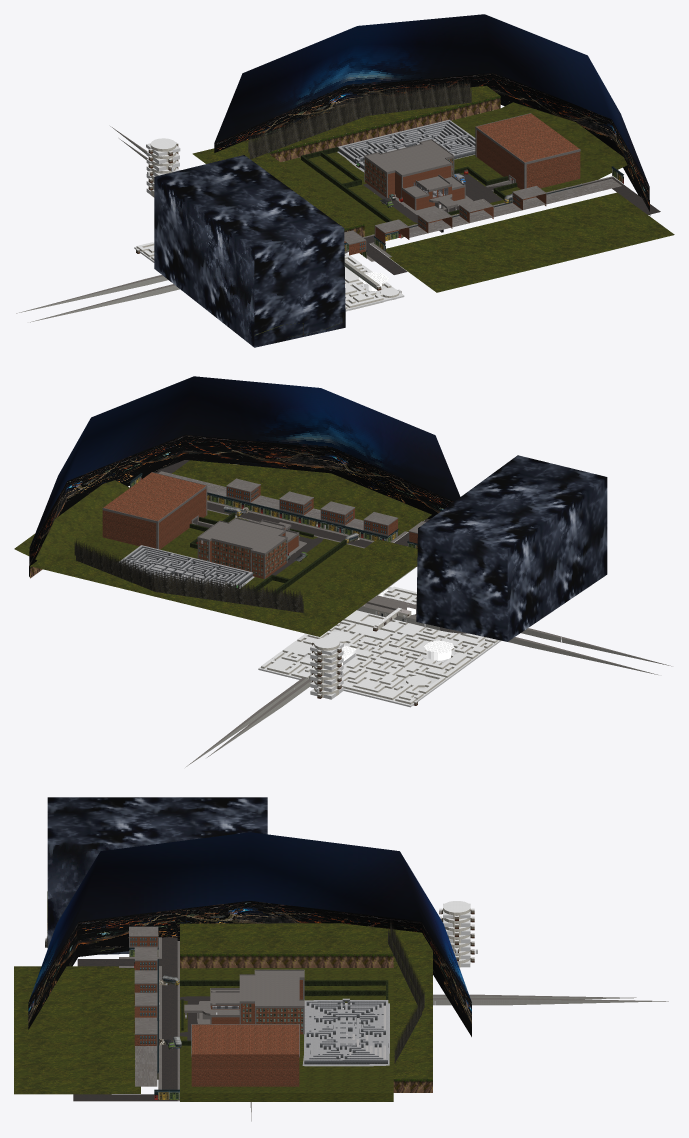
Rendered from light_test_compressed.glb.
3 views of the same model, one above another, from view 1: azimuth 30°, elevation 25°; view 2: azimuth 150°, elevation 25°; view 3: azimuth 270°, elevation 25° (orthographic). The views are drawn at different scales.
Parts seen in each view (by area): view 1: Exterior_ground, skybox.001, skybox, Garage_Exterior, Exterior_ground.005, hotel_exterior, hedgemaze, building facade.009, Backrooms, Exterior_ground.001, building facade.003, MainDoorway.001 (+2 smaller); view 2: skybox.001, skybox, Exterior_ground, Backrooms, Garage_Exterior, Exterior_ground.005, hotel_exterior, hedgemaze, trigger_train_corner.013, building facade.009, hotel_exterior.002, building facade.003 (+8 smaller); view 3: Exterior_ground, skybox.001, skybox, Garage_Exterior, hedgemaze, hotel_exterior, building facade.009, Exterior_ground.005, Exterior_ground.001, subway_exit_stairs.004, building facade.003, MainDoorway.001 (+5 smaller).
Part boxes in pixels (x1,y1,x2,y2): Exterior_ground: (192, 85, 674, 292); skybox.001: (214, 14, 650, 215); skybox: (154, 155, 345, 347); Garage_Exterior: (476, 113, 580, 189); Exterior_ground.005: (248, 80, 471, 159); hotel_exterior: (365, 140, 464, 210); hedgemaze: (338, 119, 475, 169); building facade.009: (409, 178, 621, 237); Backrooms: (136, 242, 399, 311); Exterior_ground.001: (301, 147, 392, 222); building facade.003: (374, 193, 546, 251); MainDoorway.001: (364, 113, 580, 188); skybox.001: (29, 376, 460, 576); skybox: (416, 455, 607, 641); Exterior_ground: (14, 460, 431, 636); Backrooms: (261, 586, 498, 704); Garage_Exterior: (102, 472, 206, 549); Exterior_ground.005: (74, 539, 303, 612); hotel_exterior: (198, 518, 298, 578); hedgemaze: (119, 545, 252, 589); trigger_train_corner.013: (258, 587, 501, 707); building facade.009: (158, 471, 363, 530); hotel_exterior.002: (198, 540, 286, 576); building facade.003: (227, 485, 398, 541); Exterior_ground: (14, 923, 432, 1101); skybox.001: (28, 832, 471, 1036); skybox: (47, 797, 267, 954); Garage_Exterior: (191, 1024, 299, 1086); hedgemaze: (304, 998, 388, 1064); hotel_exterior: (210, 971, 303, 1034); building facade.009: (135, 993, 157, 1086); Exterior_ground.005: (388, 920, 424, 1063); Exterior_ground.001: (180, 980, 388, 999); subway_exit_stairs.004: (433, 998, 668, 1005); building facade.003: (134, 947, 158, 1047); MainDoorway.001: (191, 969, 304, 1057).
Bounding box in the file's own units: 1454 × 450 × 1266.
130 materials, 127 textured.
